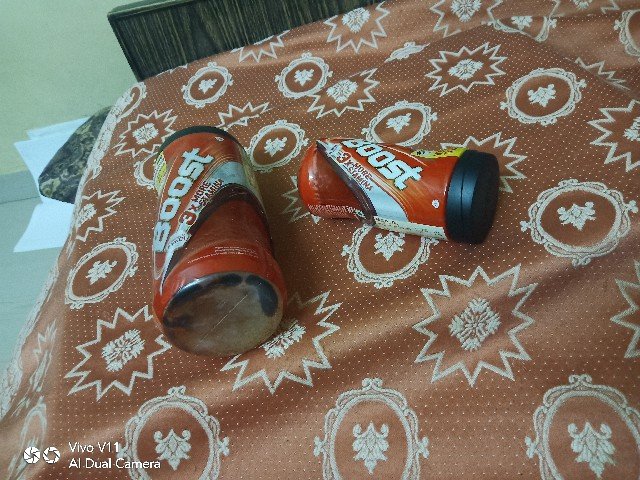boost big: (133, 108, 291, 357)
boost small: (291, 132, 510, 239)
